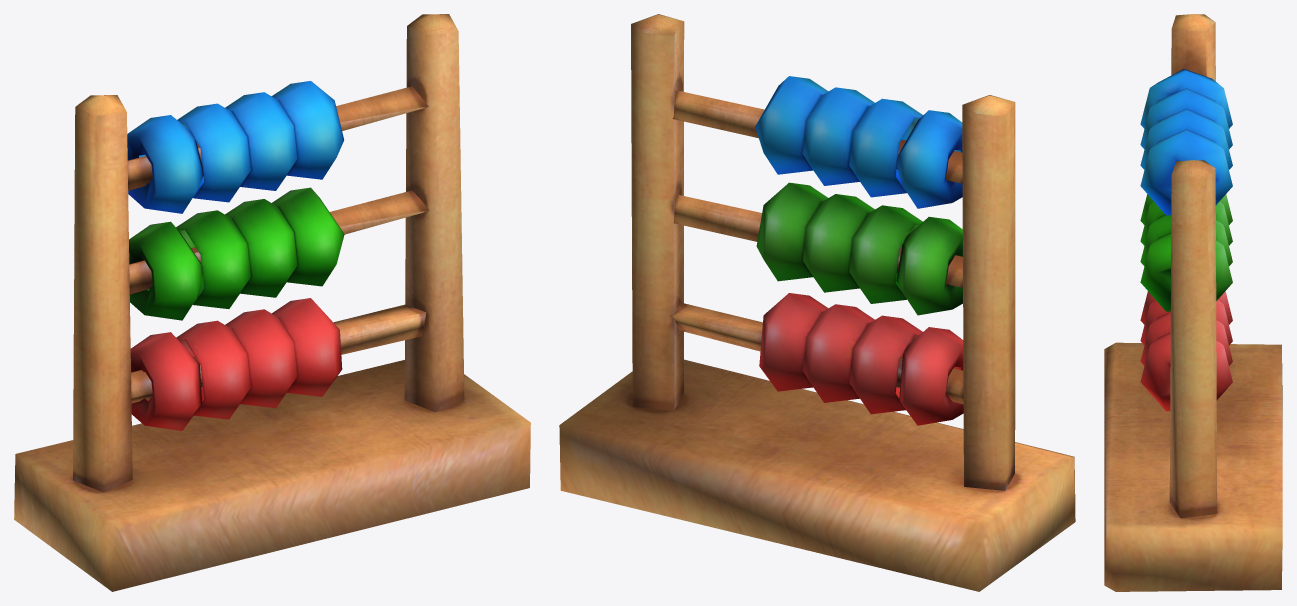
File: 0-abacus_col.fbx
3 views of the same model, side by side, from view 1: azimuth 30°, elevation 25°; view 2: azimuth 150°, elevation 25°; view 3: azimuth 270°, elevation 25° (orthographic). The views are drawn at different scales.
Parts seen in each view (by area): view 1: 0-abacus; view 2: 0-abacus; view 3: 0-abacus.
Part boxes in pixels (bbox=[...]): 0-abacus: bbox=[14, 14, 530, 591]; 0-abacus: bbox=[559, 14, 1075, 591]; 0-abacus: bbox=[1104, 14, 1282, 591].
Bounding box in the file's own units: 95.58 × 97.48 × 38.56.
1 material, 1 textured.
